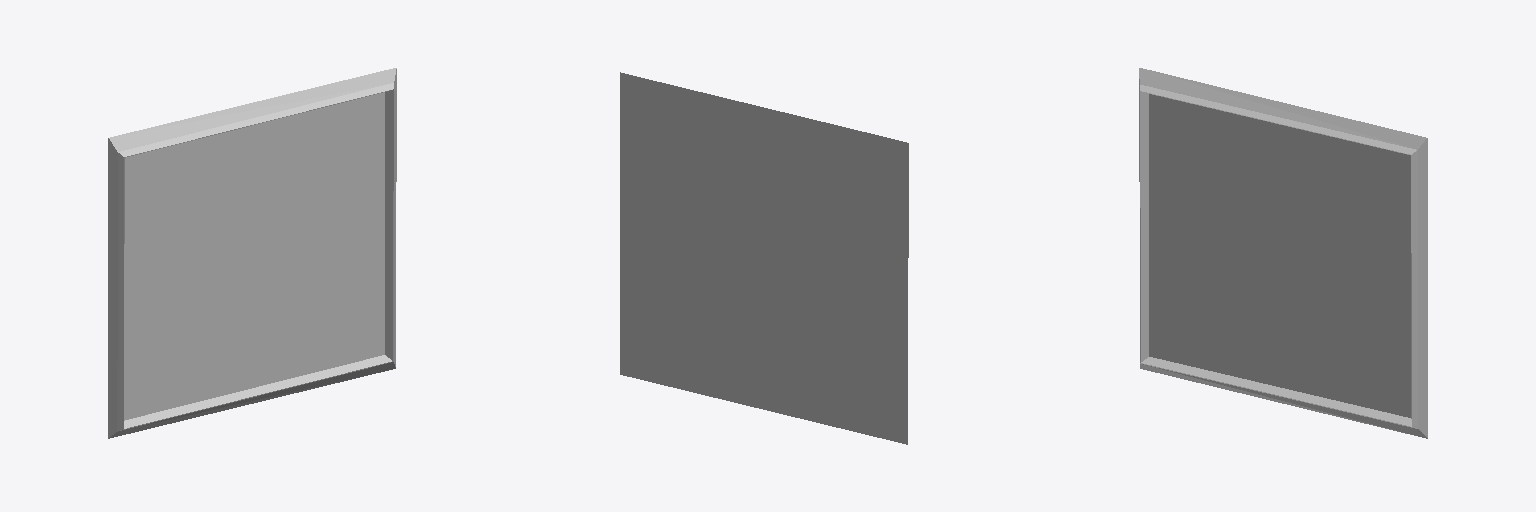
The model's file is testModel.obj.
3 renders of one model, left to right at view 1: azimuth 30°, elevation 25°; view 2: azimuth 150°, elevation 25°; view 3: azimuth 330°, elevation 25°, orthographic.
Parts seen in each view (by area): view 1: Plane; view 2: Plane; view 3: Plane.
Boxes of the visible parts, x1=… form: Plane: x1=108, y1=68, x2=396, y2=438; Plane: x1=620, y1=72, x2=908, y2=444; Plane: x1=1139, y1=68, x2=1427, y2=438.
Bounding box in the file's own units: 2.16 × 2.16 × 0.105.